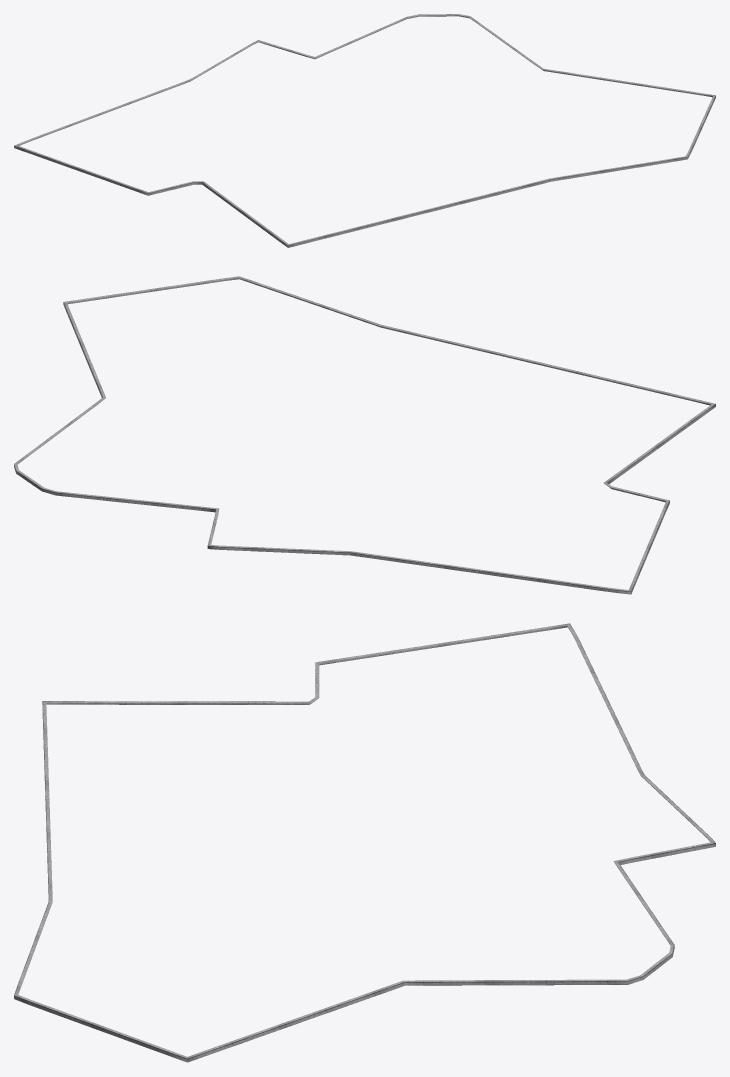
The model's file is curb1.fbx.
3 renders of one model, top to bottom at view 1: azimuth 30°, elevation 25°; view 2: azimuth 150°, elevation 25°; view 3: azimuth 270°, elevation 25°, orthographic. The views are drawn at different scales.
Visible parts, largest first — view 1: curb; view 2: curb; view 3: curb.
Boxes of the visible parts, <box> form: curb: <box>14,14,715,247</box>; curb: <box>14,276,715,594</box>; curb: <box>14,623,715,1062</box>.
Size of the model in its own units: 3937 by 15.2 by 2681.
